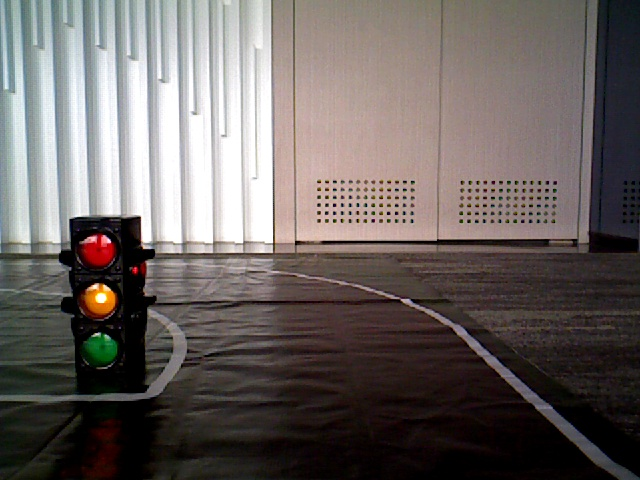yellow: (73, 220, 133, 369)
